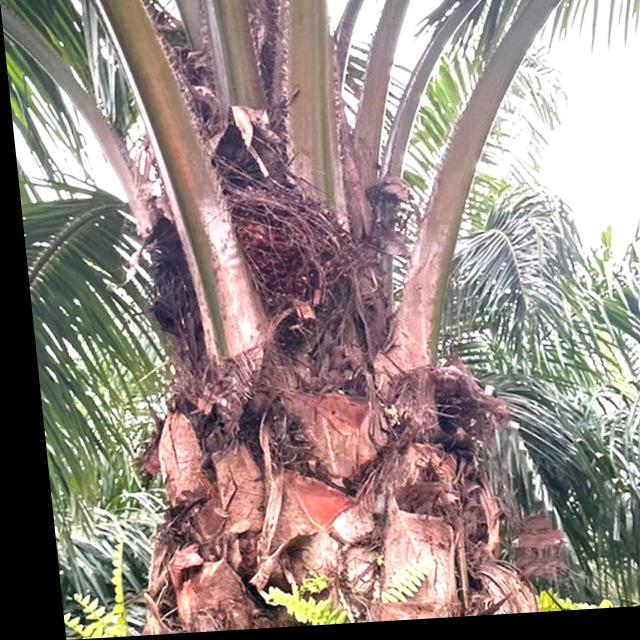ripe: (215, 176, 357, 328)
